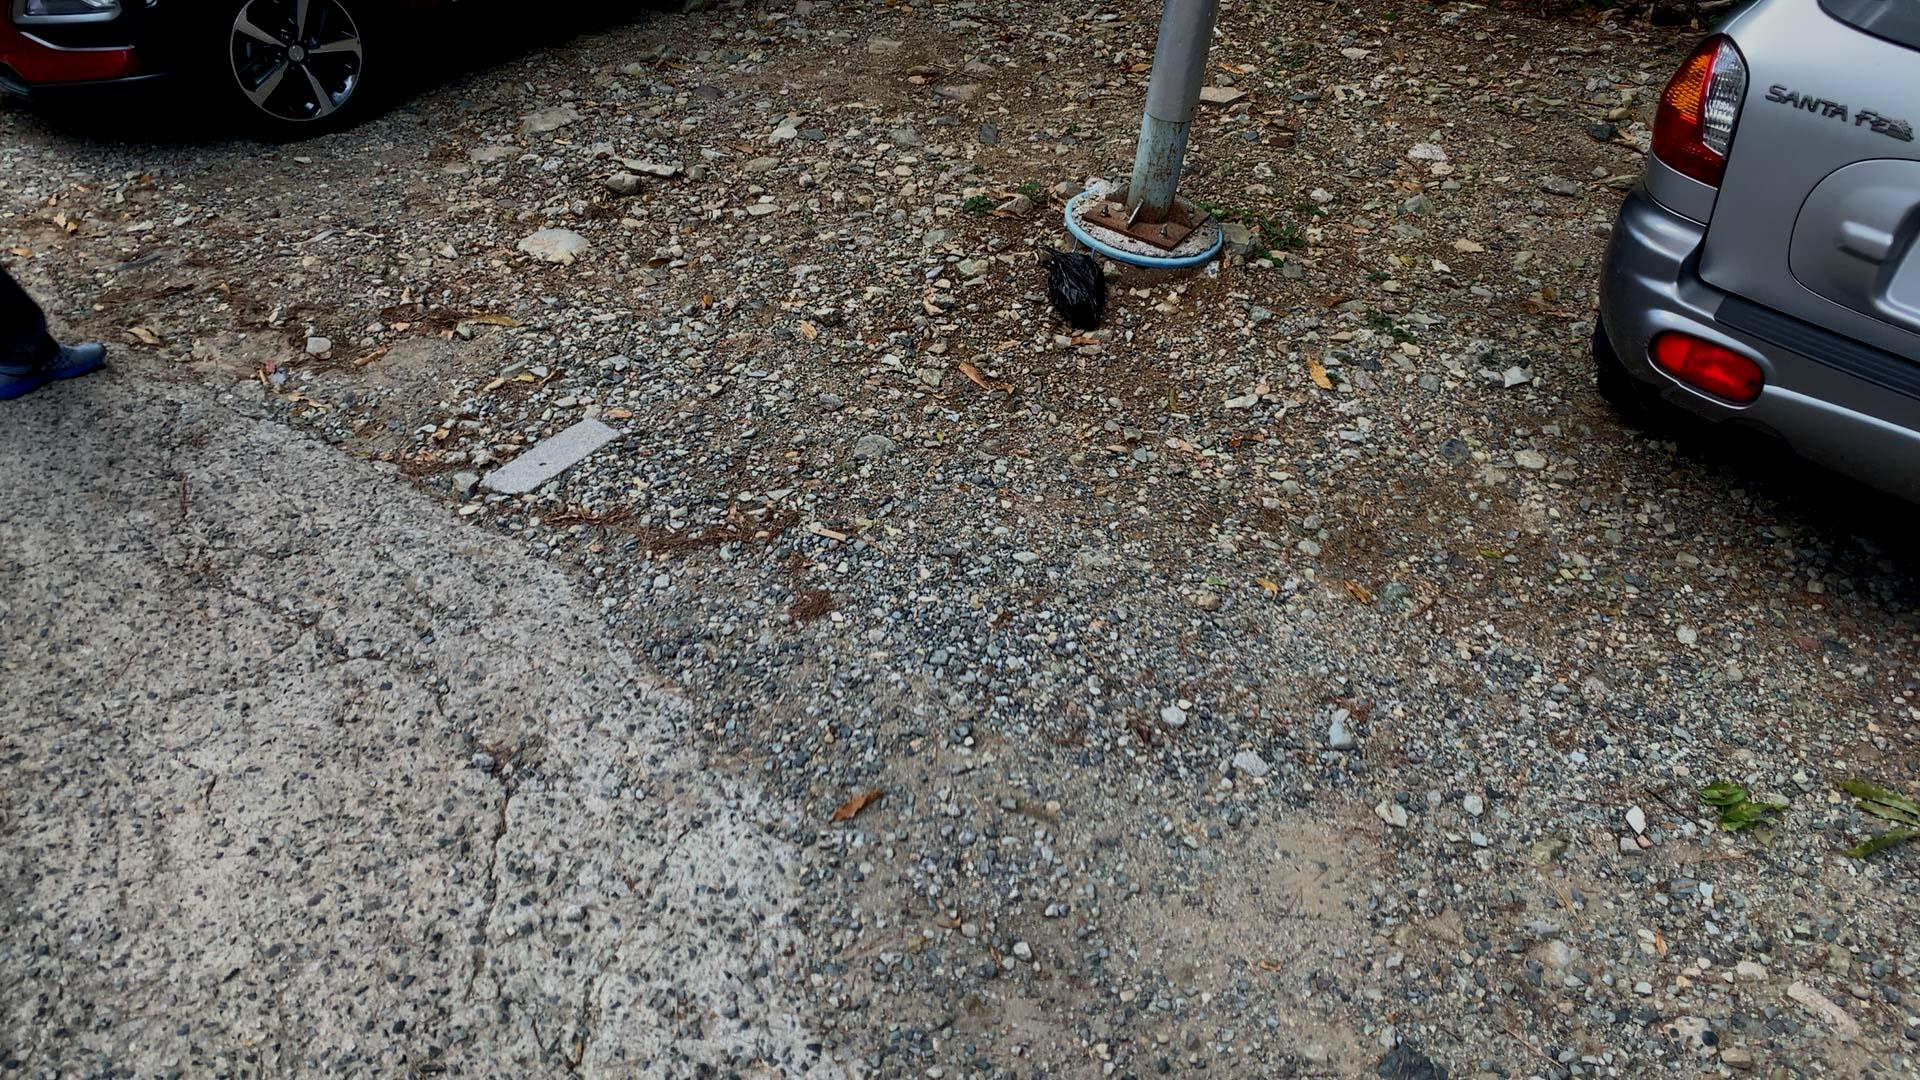black_bag: (1034, 240, 1110, 334)
